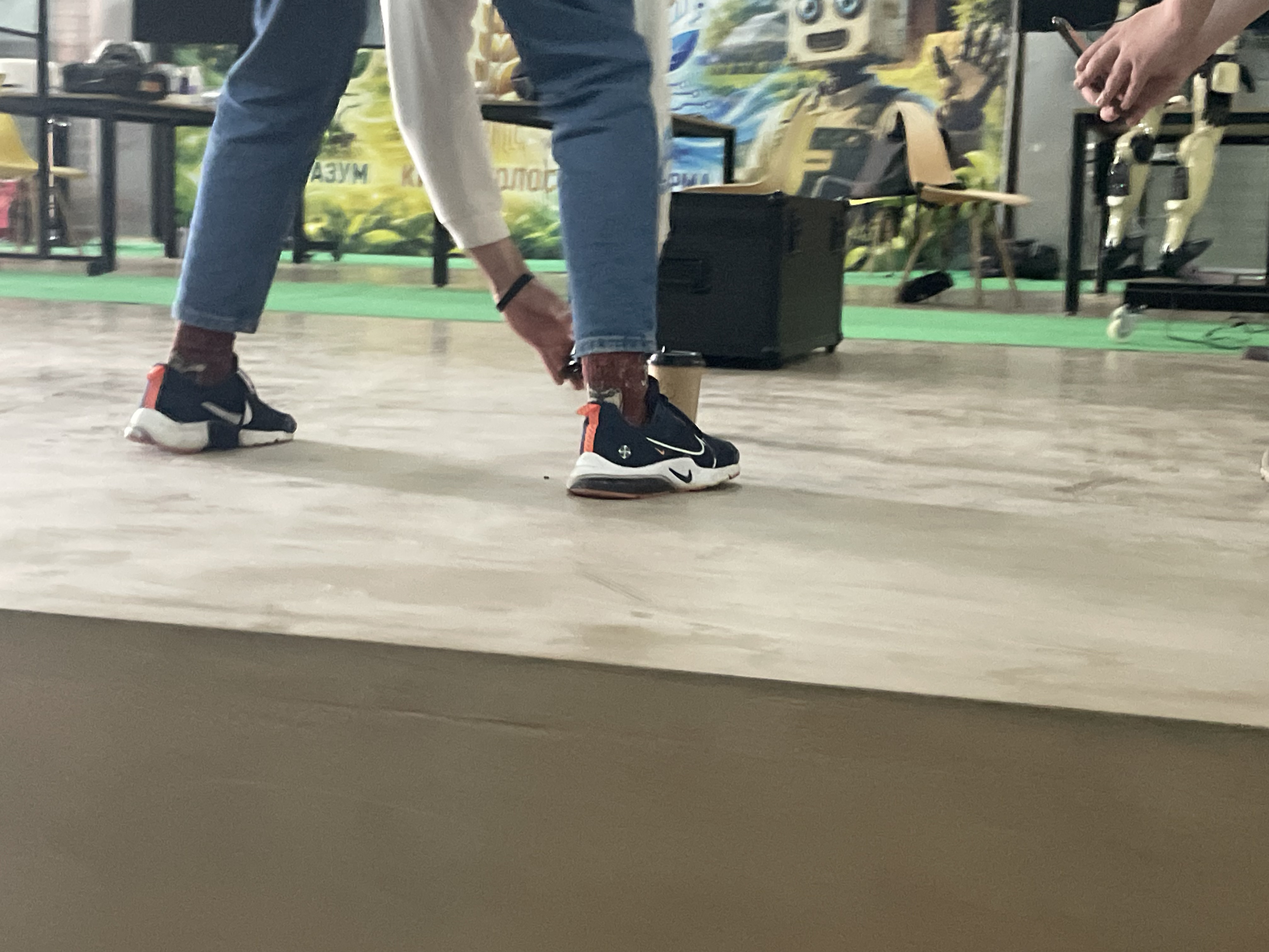cup: (646, 345, 705, 435)
